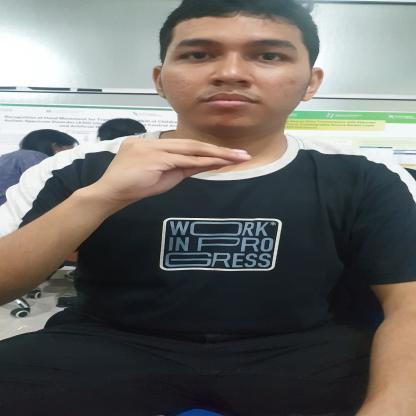Malam: (76, 128, 254, 206)
